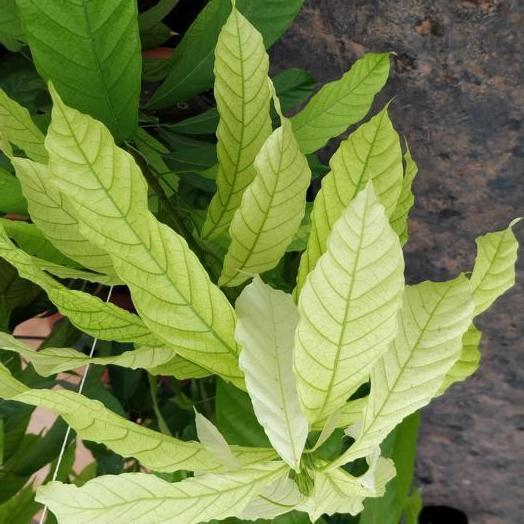Healthy Leaf: (17, 0, 141, 140)
Iron: (45, 86, 243, 384), (327, 277, 472, 470), (294, 182, 404, 422), (0, 378, 222, 472), (202, 6, 271, 238), (219, 114, 310, 286), (37, 462, 283, 523), (235, 276, 308, 472), (233, 446, 273, 465)
